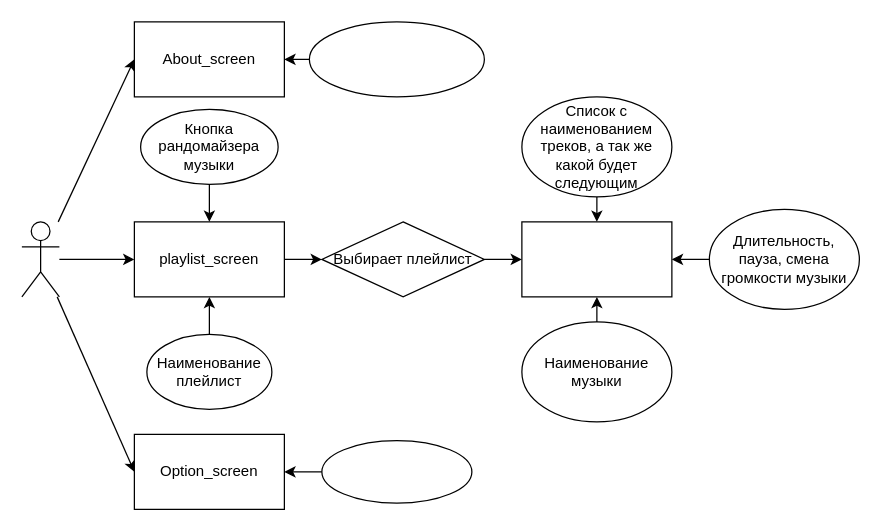
This 881x531 diagram has some shape labels left out. Each missing label, with the centre of its shape:
"P layer_screen" belongs at (596,259).
"User" belongs at (40,259).
"Информация о приложении" belongs at (396,59).
"Смена языка" belongs at (396,471).
